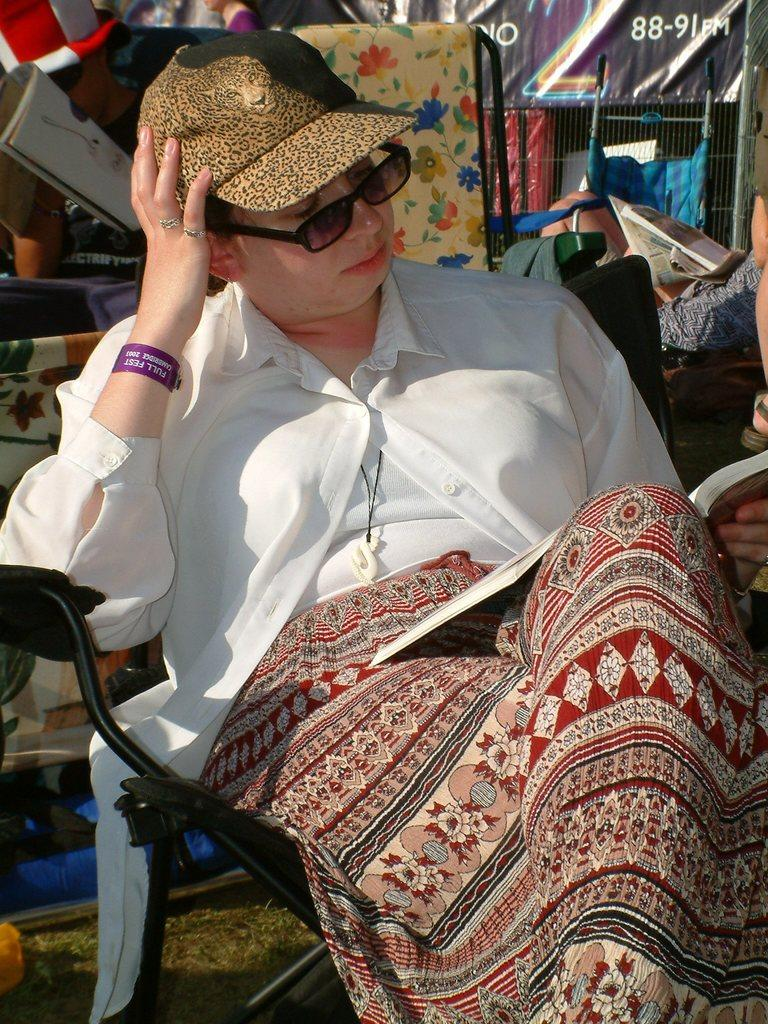Hat: (138, 32, 419, 210)
